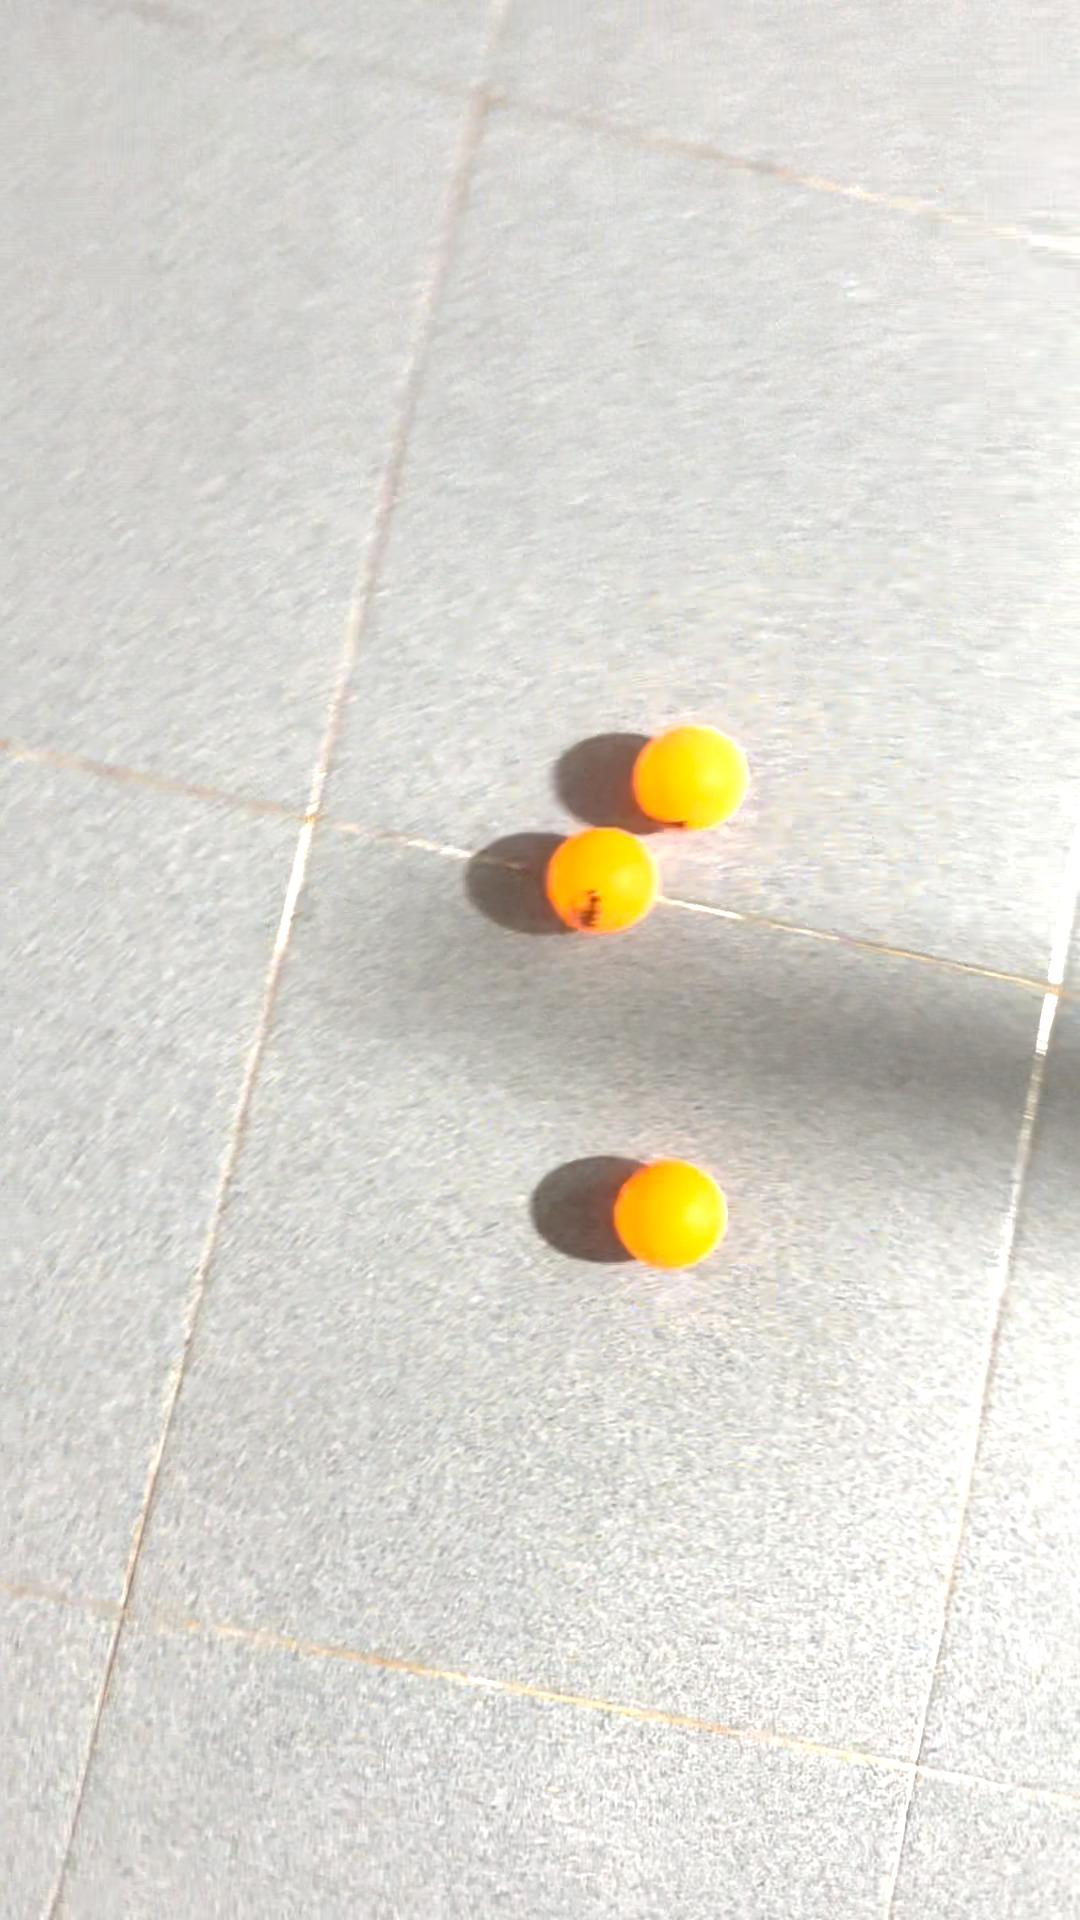oball: (621, 717, 769, 833), (608, 1154, 735, 1279), (547, 824, 663, 944)
